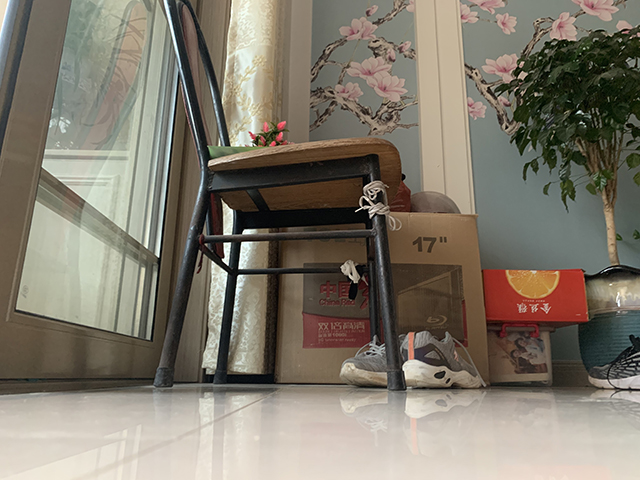curtain: (199, 1, 287, 382)
stool: (151, 1, 405, 392)
